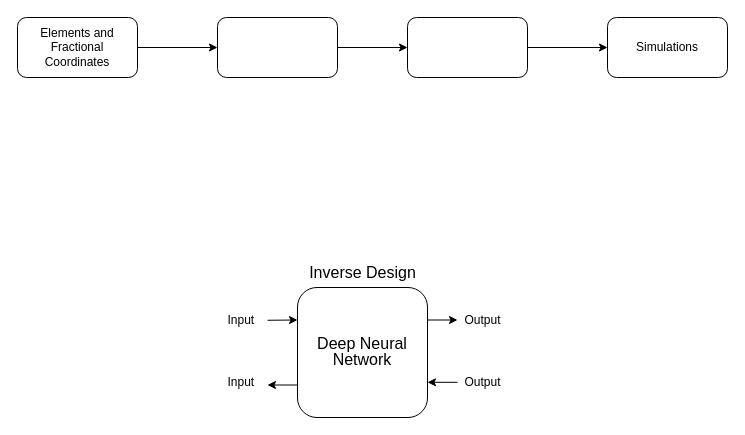
Some shapes in this 745 by 435 pixel diagram are drawn without their labels. The shapes that lost their labels are listed below. From the top down, each one's centre as x and y in pixels, then its label:
[277,47]: Cell Structure
[467,47]: Device
